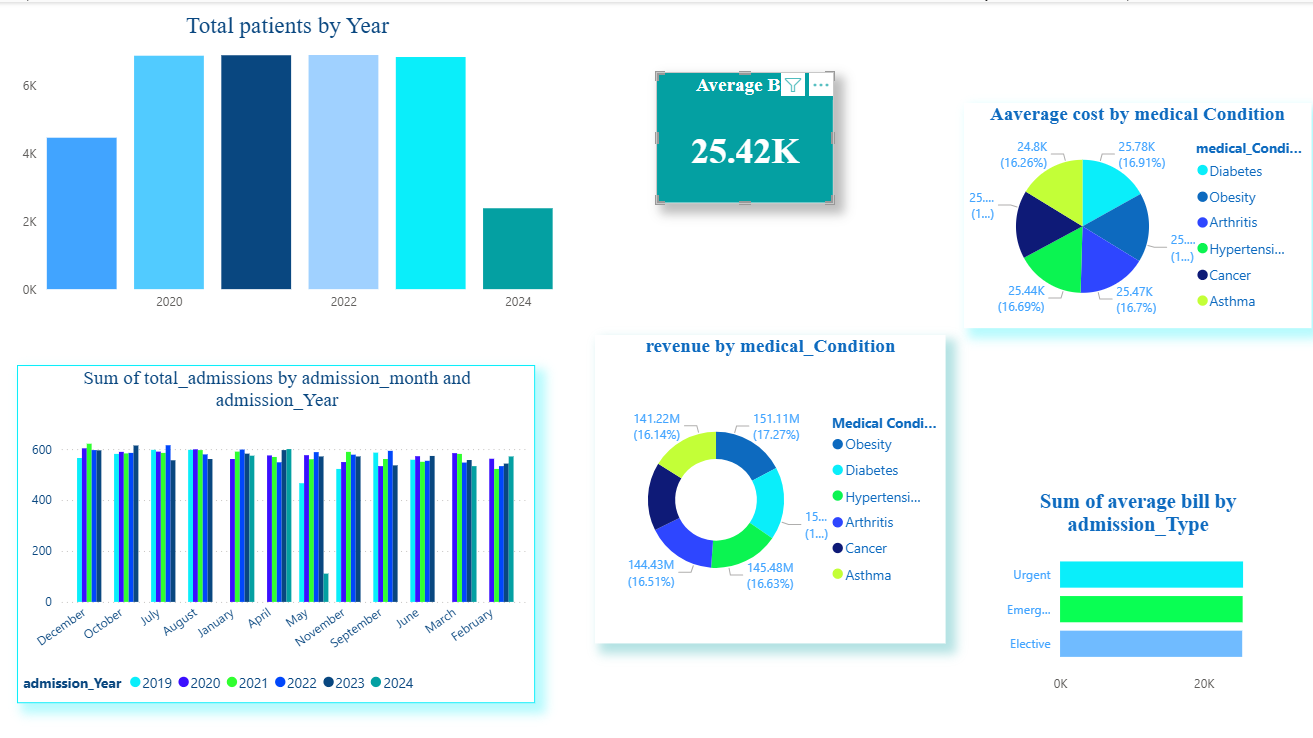

The dashboard page shown, as its layout file describes it:
{"tool":"powerbi","page":{"name":"Page 2","canvas":[1280,720],"ordinal":1},"visuals":[{"type":"clusteredColumnChart","title":"Total patients by Year","fields":{"Category":["hcQ5 1 avg.month.Variation.Date Hierarchy.Year","hcQ5 1 avg.month.Variation.Date Hierarchy.Quarter","hcQ5 1 avg.month.Variation.Date Hierarchy.Month","hcQ5 1 avg.month.Variation.Date Hierarchy.Day"],"Y":["Sum(hcQ5 1 avg.total_patients)"]},"box":[18.5,9.7,526.2,299.6],"z":0},{"type":"clusteredColumnChart","fields":{"Category":["hcQ10.admission_month"],"Series":["hcQ10.admission_Year"],"Y":["Sum(hcQ10.total_admissions)"]},"box":[18.5,353.1,503.8,328.8],"z":1000},{"type":"card","title":"Average Bill","fields":{"Values":["Sum(hcQ11.average_bill_amount)"]},"box":[640,68.1,173.1,128.4],"z":2000},{"type":"donutChart","title":"revenue by medical_Condition","fields":{"Category":["hcQ12.medical_Condition"],"Y":["Sum(hcQ12.total_revenue)"]},"box":[580.7,323.9,341.4,299.6],"z":3000},{"type":"pieChart","title":"Aaverage cost by medical Condition","fields":{"Category":["hcQ12.medical_Condition"],"Y":["Sum(hcQ12.average_cost)"]},"box":[939.6,98.2,337.5,218.8],"z":4000},{"type":"clusteredBarChart","title":"Sum of average bill by admission_Type","fields":{"Category":["hcQ13.admission_Type"],"Y":["Sum(hcQ13.average_bill)"]},"box":[960,473.7,297.6,207.2],"z":5000}]}

Visuals, with their boxes in screenshot pixels (x1, y1, x2, y2), scaled from the page's 1280x720 canvas onto the 1313x738 screenshot:
"Total patients by Year" clusteredColumnChart: 19/10/559/317
clusteredColumnChart - hcQ10.admission_month x hcQ10.admission_Year: 19/362/536/699
"Average Bill" card: 656/70/834/201
"revenue by medical_Condition" donutChart: 596/332/946/639
"Aaverage cost by medical Condition" pieChart: 964/101/1310/325
"Sum of average bill by admission_Type" clusteredBarChart: 985/486/1290/698
